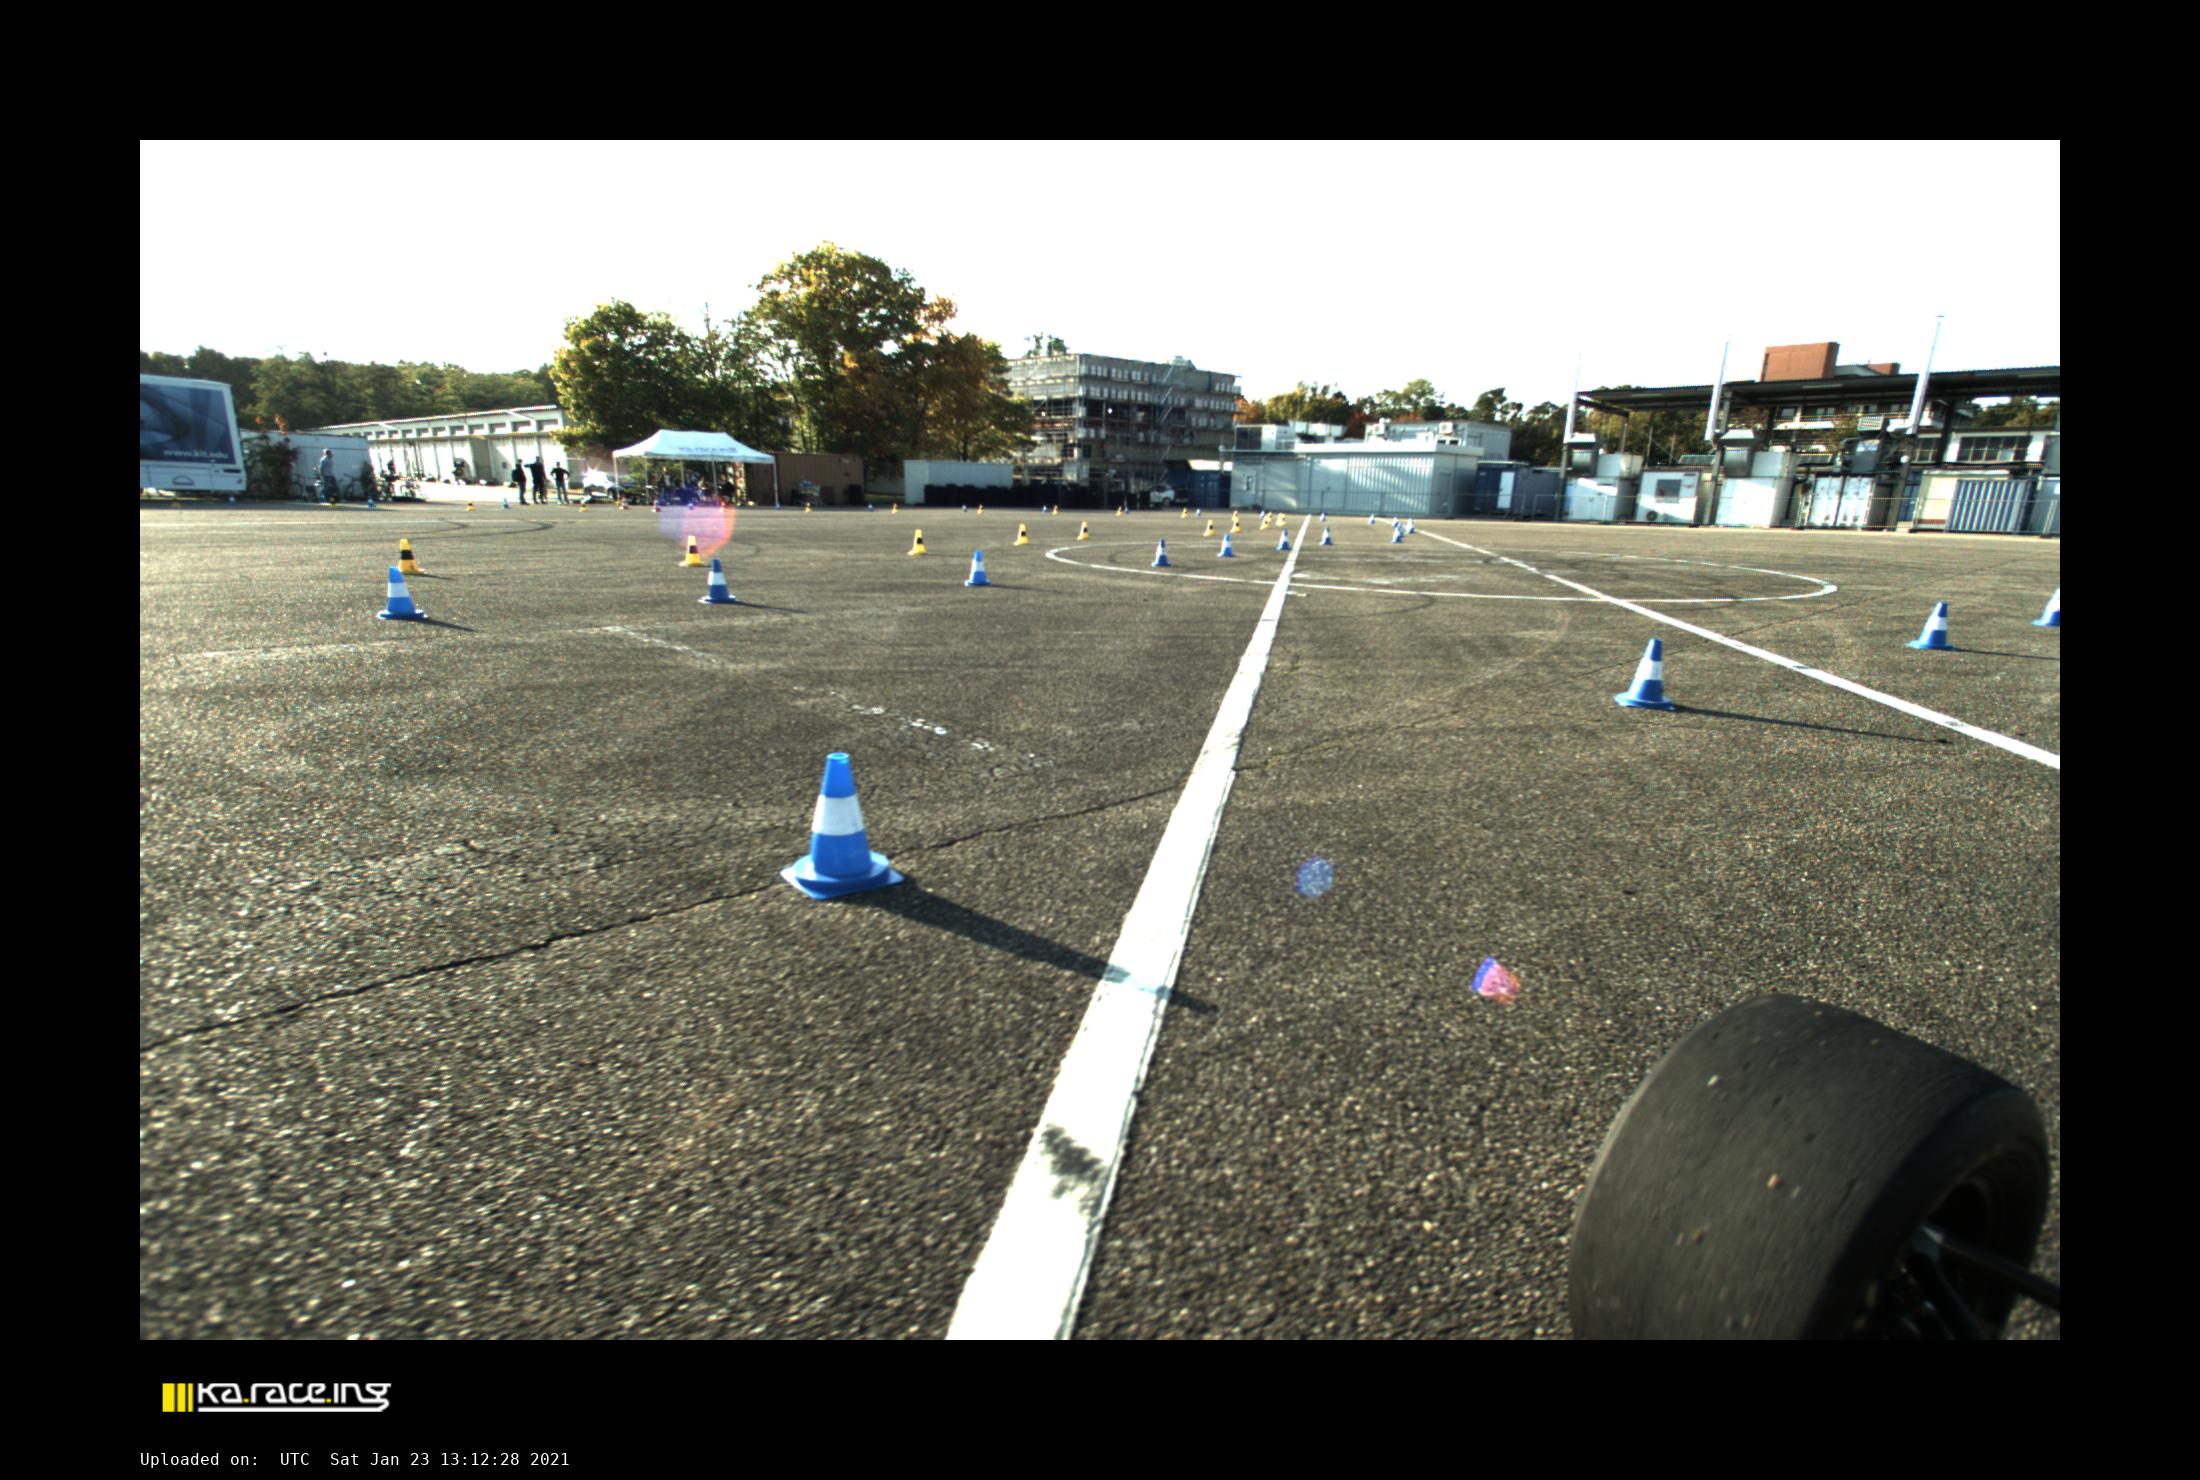blue_cone: (780, 753, 905, 899), (1614, 639, 1676, 710), (378, 567, 428, 619), (1908, 601, 1952, 651), (697, 558, 740, 603), (2032, 590, 2060, 626), (965, 550, 993, 586), (1150, 538, 1173, 567), (1216, 534, 1235, 557), (1277, 529, 1292, 550), (1318, 527, 1335, 545), (1391, 527, 1404, 543), (1406, 519, 1415, 534), (1396, 524, 1406, 538), (365, 496, 375, 507), (502, 497, 510, 509), (1368, 514, 1376, 524), (687, 500, 695, 510), (1041, 504, 1049, 512), (1320, 510, 1326, 520), (1391, 515, 1397, 525), (775, 500, 781, 510), (1259, 510, 1265, 519), (867, 504, 874, 510), (961, 504, 966, 512), (1196, 509, 1201, 515)
large_orange_cone: (618, 492, 629, 510), (651, 496, 662, 512)
yellow_cone: (400, 538, 428, 575), (679, 535, 707, 567), (907, 529, 930, 555), (1012, 524, 1031, 545), (1202, 519, 1217, 535), (1079, 520, 1092, 538), (1275, 512, 1287, 525), (1230, 519, 1240, 532), (1259, 515, 1268, 529), (1179, 505, 1188, 519), (578, 499, 586, 512), (890, 502, 898, 514), (1230, 510, 1239, 520), (976, 504, 984, 514), (718, 502, 727, 512), (1267, 510, 1273, 522), (1050, 505, 1059, 514), (1115, 505, 1121, 515), (804, 502, 811, 512), (467, 500, 474, 510), (329, 497, 335, 507)
